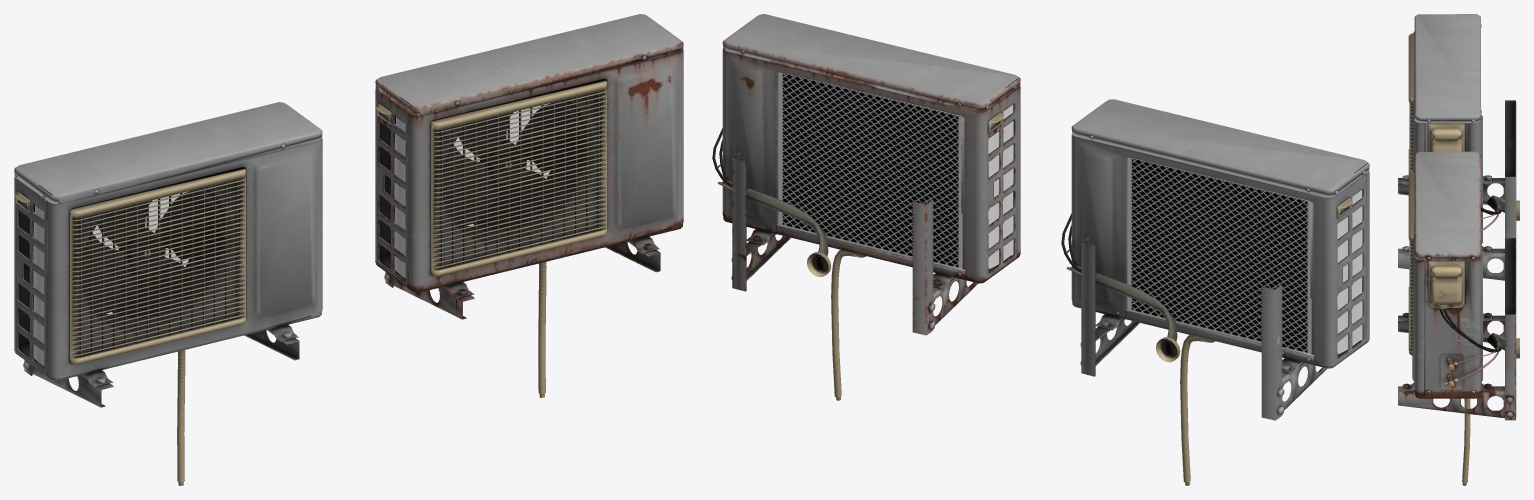
The model's file is exterior_aircon_unit.glb.
The picture shows the model from 3 angles, left to right: view 1: azimuth 30°, elevation 25°; view 2: azimuth 150°, elevation 25°; view 3: azimuth 270°, elevation 25°; orthographic projection. The views are drawn at different scales.
Visible parts, largest first — view 1: exterior_aircon_unit_rusted, exterior_aircon_unit; view 2: exterior_aircon_unit, exterior_aircon_unit_rusted; view 3: exterior_aircon_unit_rusted, exterior_aircon_unit.
Part boxes in pixels (left/top/right/bottom): exterior_aircon_unit_rusted: left=375, top=14, right=683, bottom=397; exterior_aircon_unit: left=14, top=102, right=322, bottom=485; exterior_aircon_unit: left=1061, top=99, right=1369, bottom=485; exterior_aircon_unit_rusted: left=712, top=14, right=1020, bottom=400; exterior_aircon_unit_rusted: left=1398, top=151, right=1519, bottom=485; exterior_aircon_unit: left=1398, top=14, right=1519, bottom=280.
Size of the model in its own units: 1.8 by 0.9279 by 0.3742.
4 materials, 4 textured.
